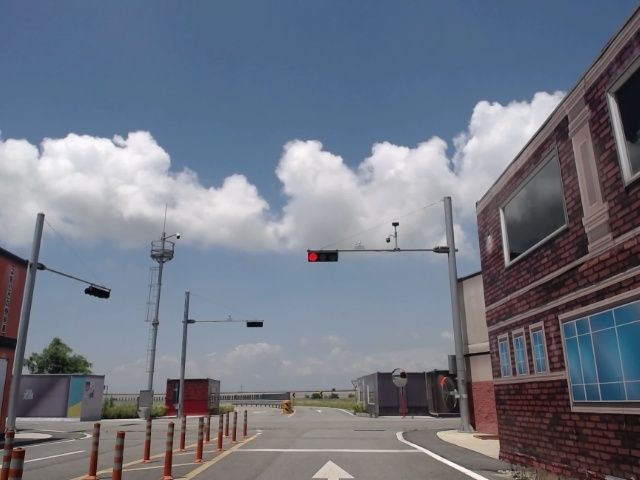red_3: (306, 251, 338, 261)
